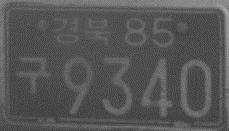0: (180, 57, 212, 118)
3: (99, 54, 134, 116)
4: (139, 56, 175, 120)
5: (151, 15, 174, 48)
8: (123, 17, 147, 48)
9: (61, 54, 94, 117)
경북_O: (51, 16, 112, 48)
구: (16, 55, 52, 96)
